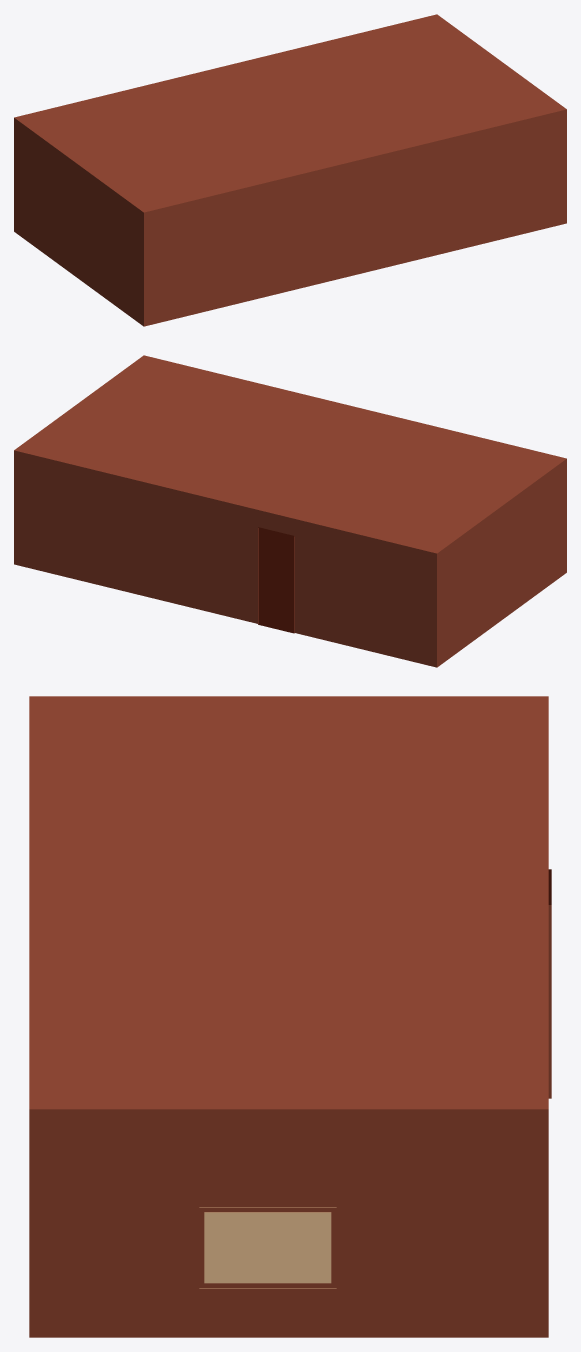
File: room_2.glb
The picture shows the model from 3 angles, top to bottom: view 1: azimuth 30°, elevation 25°; view 2: azimuth 150°, elevation 25°; view 3: azimuth 270°, elevation 25°; orthographic projection. The views are drawn at different scales.
Parts seen in each view (by area): view 1: komnata_2; view 2: komnata_2; view 3: komnata_2.
Boxes of the visible parts, <box> form: komnata_2: <box>14,14,566,326</box>; komnata_2: <box>14,355,566,667</box>; komnata_2: <box>29,696,551,1337</box>.
Size of what is drawn, in the model's own units: 9.68 by 2.53 by 5.17.
Materials: 5 (4 with a texture image).
